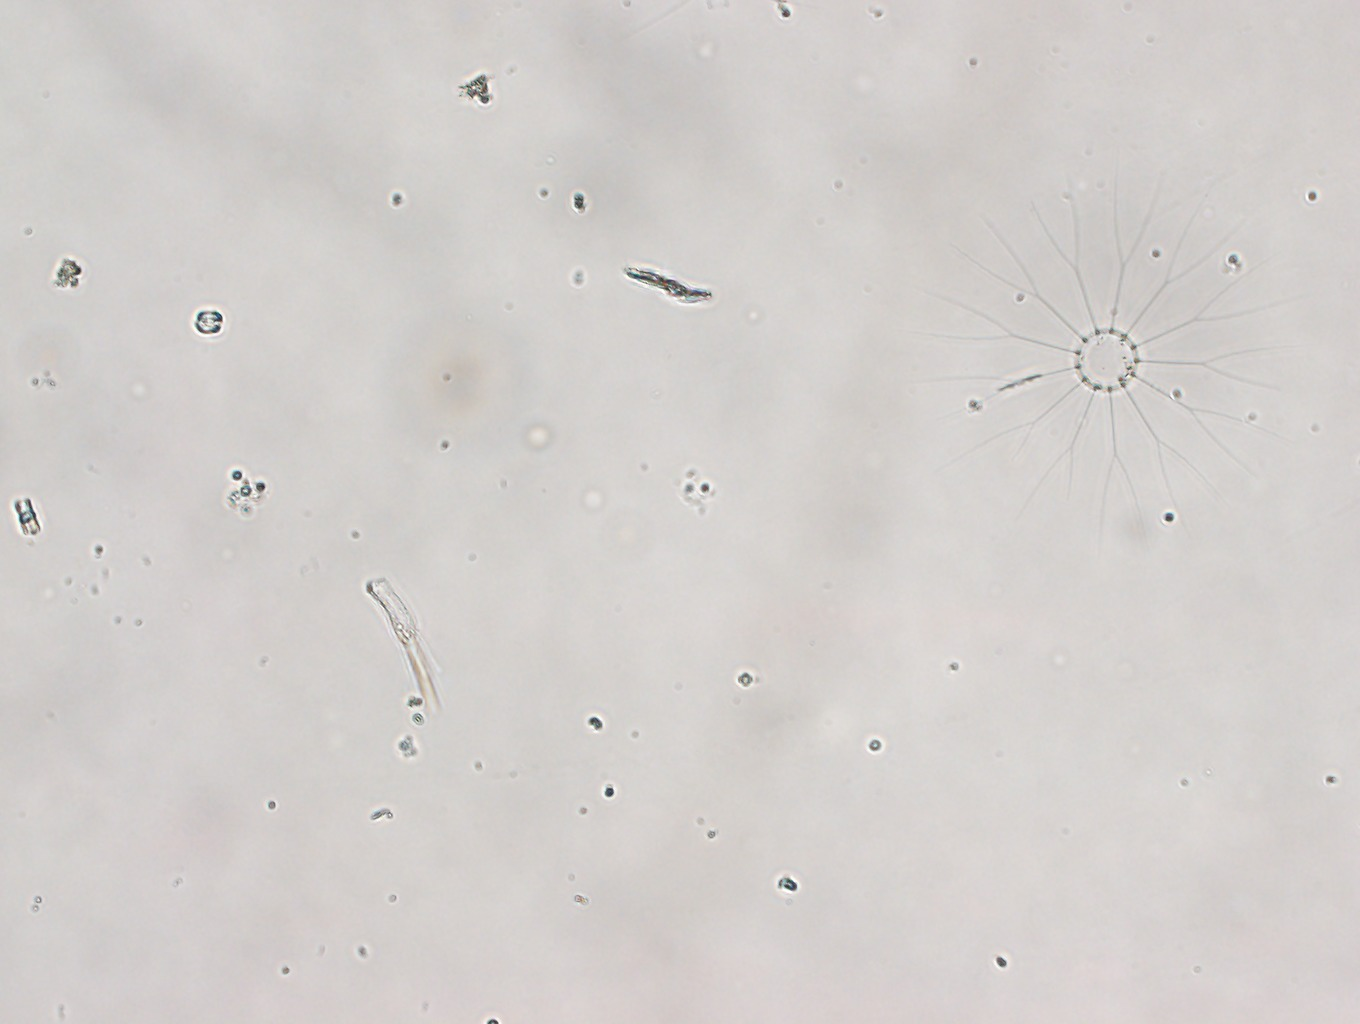bacteriastrum: (917, 152, 1318, 545)
